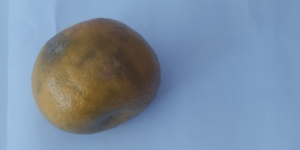BAD: (31, 17, 163, 135)
